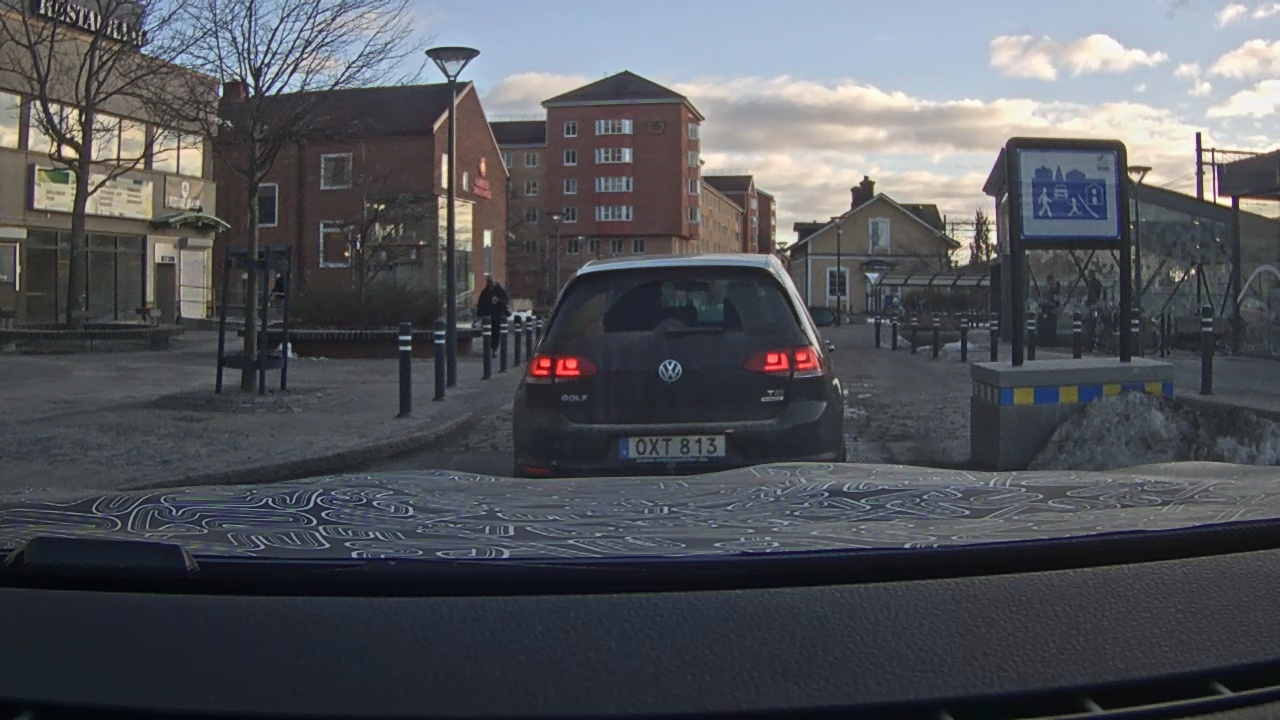Playground_Residential_Area_Begin: (1015, 145, 1122, 241)
